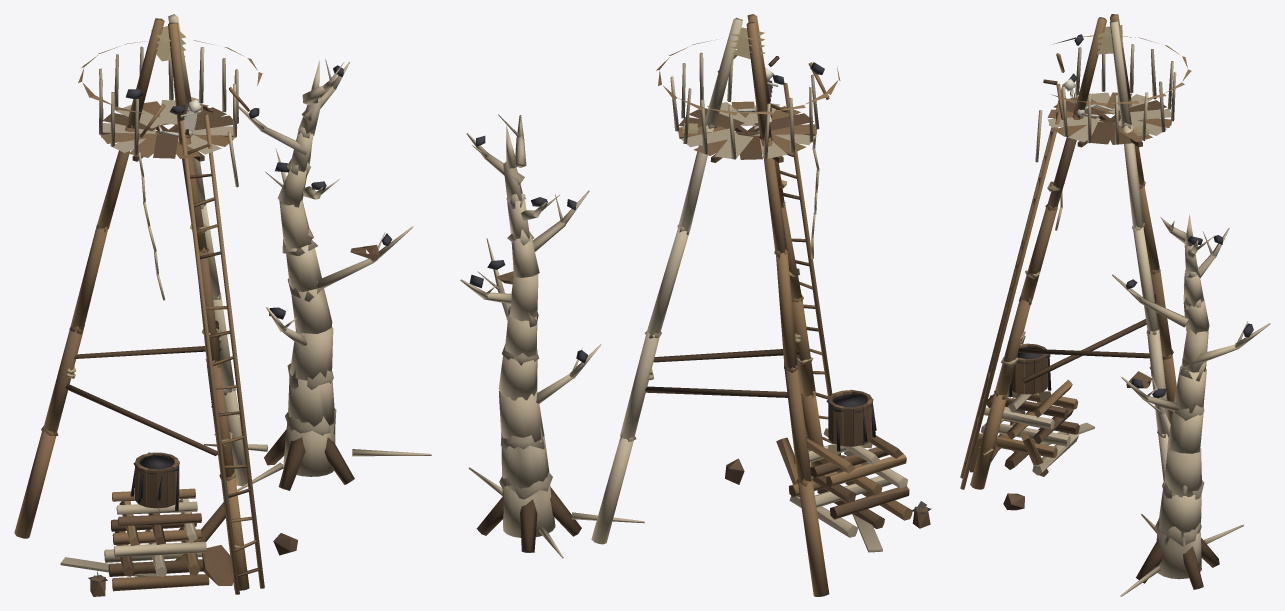
The model's file is crow_roost_far.glb.
3 views of the same model, side by side, from view 1: azimuth 30°, elevation 25°; view 2: azimuth 150°, elevation 25°; view 3: azimuth 270°, elevation 25° (orthographic). The views are drawn at different scales.
Visible parts, largest first — view 1: crow_roost; view 2: crow_roost; view 3: crow_roost.
Boxes of the visible parts, x1,y1,x2,y2 form: crow_roost: (14, 14, 431, 596); crow_roost: (460, 14, 931, 596); crow_roost: (960, 14, 1270, 596).
Size of the model in its own units: 7.36 by 9.32 by 5.49.
